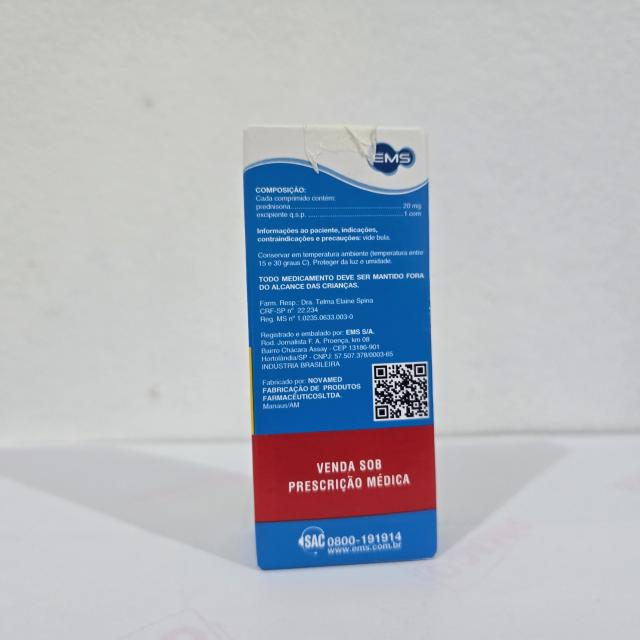prednisona: (239, 120, 442, 575)
